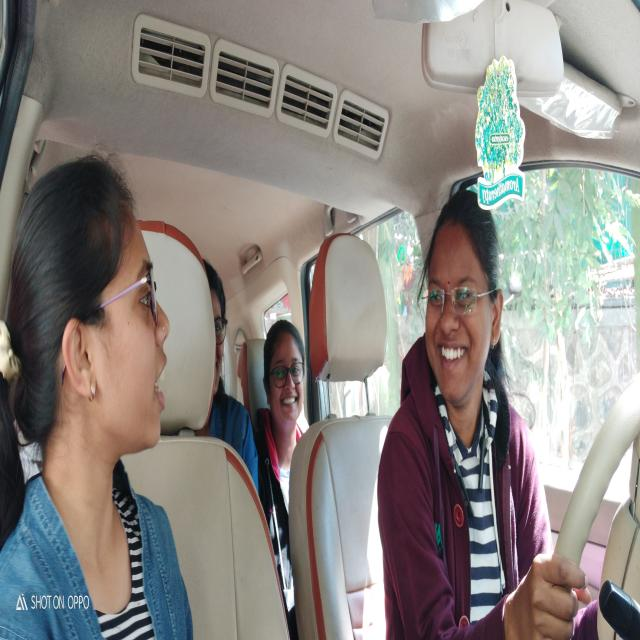LeftRight: (419, 182, 505, 403)
person: (11, 142, 176, 518), (261, 303, 310, 440), (205, 257, 238, 412)
talking: (150, 347, 170, 421), (437, 332, 473, 372)
